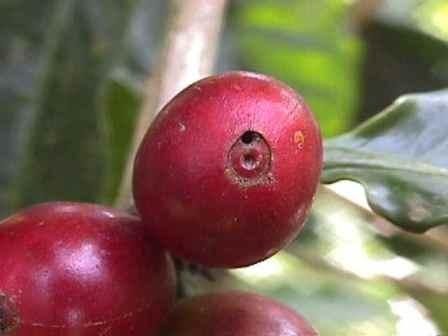broca de cafe: (184, 77, 316, 237)
